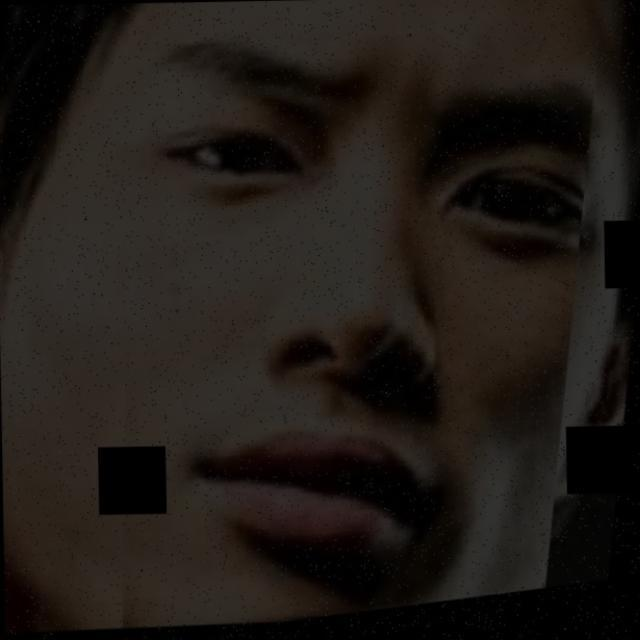Angry: (82, 20, 639, 617)
